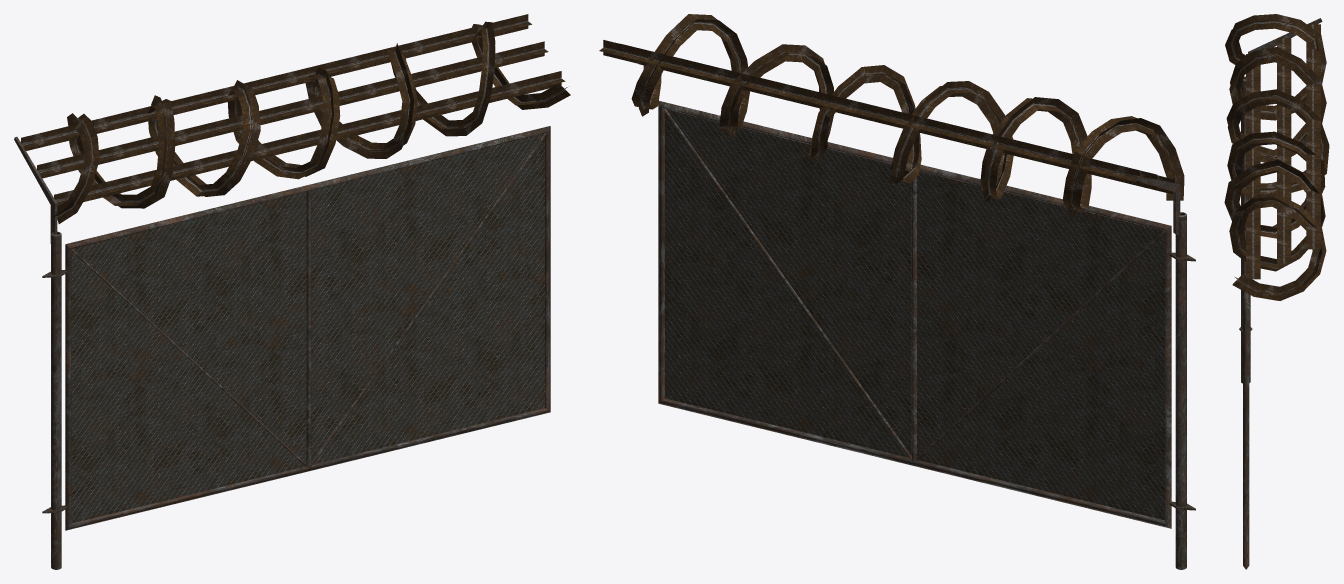
The model's file is Fence_metal_03.FBX.
The picture shows the model from 3 angles, left to right: view 1: azimuth 30°, elevation 25°; view 2: azimuth 150°, elevation 25°; view 3: azimuth 270°, elevation 25°; orthographic projection. The views are drawn at different scales.
Visible parts, largest first — view 1: Fence_metal_grid_03, Fence_metal_wire_03, Fence_metal_03; view 2: Fence_metal_grid_03, Fence_metal_wire_03, Fence_metal_03; view 3: Fence_metal_wire_03, Fence_metal_03.
Part boxes in pixels (x1,y1,x2,y2): Fence_metal_grid_03: (71,134,544,523); Fence_metal_wire_03: (20,14,570,223); Fence_metal_03: (14,126,550,569); Fence_metal_grid_03: (665,109,1164,520); Fence_metal_wire_03: (599,14,1184,217); Fence_metal_03: (658,101,1195,569); Fence_metal_wire_03: (1224,14,1329,300); Fence_metal_03: (1239,18,1322,569).
Bounding box in the file's own units: 377 × 295 × 72.02.
